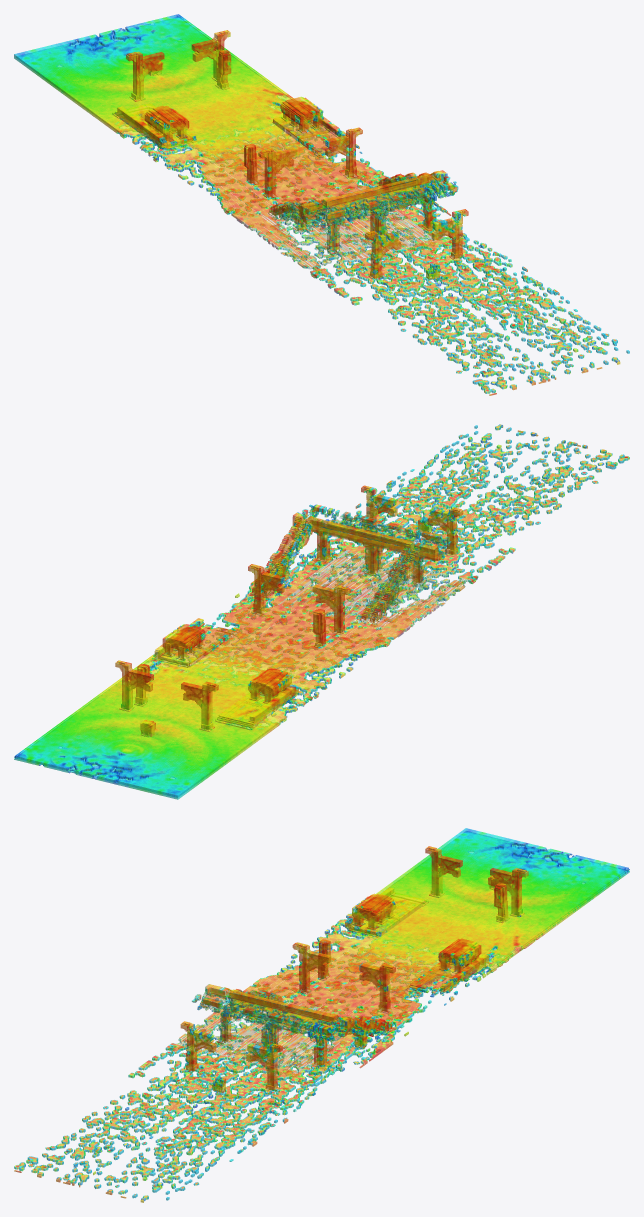
The model's file is railroad_out.glb.
The picture shows the model from 3 angles, top to bottom: view 1: azimuth 30°, elevation 25°; view 2: azimuth 150°, elevation 25°; view 3: azimuth 330°, elevation 25°; orthographic projection.
Parts seen in each view (by area): view 1: chunk:1, chunk:3, chunk:2, chunk:0, chunk:4, chunk:5, chunk:9, chunk:8, chunk:10, chunk:7, chunk:11, chunk:12 (+1 smaller); view 2: chunk:3, chunk:1, chunk:2, chunk:0, chunk:4, chunk:5, chunk:10, chunk:8, chunk:7, chunk:9, chunk:12, chunk:11 (+1 smaller); view 3: chunk:1, chunk:2, chunk:0, chunk:4, chunk:3, chunk:5, chunk:10, chunk:8, chunk:9, chunk:7, chunk:11, chunk:12 (+1 smaller).
Part boxes in pixels (box(x1,y1,x2,y2)): chunk:1: box(88, 32, 289, 161); chunk:3: box(236, 177, 438, 272); chunk:2: box(165, 127, 364, 218); chunk:0: box(14, 23, 214, 111); chunk:4: box(310, 210, 512, 323); chunk:5: box(398, 294, 586, 377); chunk:9: box(291, 104, 387, 188); chunk:8: box(217, 30, 324, 131); chunk:10: box(365, 170, 464, 239); chunk:7: box(143, 14, 252, 78); chunk:11: box(439, 209, 542, 294); chunk:12: box(514, 287, 617, 352); chunk:3: box(272, 510, 471, 636); chunk:1: box(124, 653, 319, 744); chunk:2: box(198, 566, 398, 689); chunk:0: box(50, 711, 251, 799); chunk:4: box(345, 486, 531, 583); chunk:5: box(419, 443, 601, 525); chunk:10: box(235, 504, 343, 605); chunk:8: box(88, 630, 197, 713); chunk:7: box(14, 702, 123, 768); chunk:9: box(173, 564, 270, 656); chunk:12: box(386, 434, 491, 495); chunk:11: box(327, 485, 417, 551); chunk:1: box(324, 846, 518, 965); chunk:2: box(246, 936, 443, 1018); chunk:0: box(393, 828, 592, 914); chunk:4: box(113, 1021, 298, 1129); chunk:3: box(173, 984, 363, 1076); chunk:5: box(42, 1100, 225, 1182); chunk:10: box(300, 1012, 408, 1082); chunk:8: box(448, 868, 556, 977); chunk:9: box(377, 946, 481, 1029); chunk:7: box(521, 859, 629, 925); chunk:11: box(226, 1044, 324, 1136); chunk:12: box(152, 1128, 257, 1190).
Size of the model in its own units: 33 by 9.6 by 161.
Materials: 14 (14 with a texture image).
